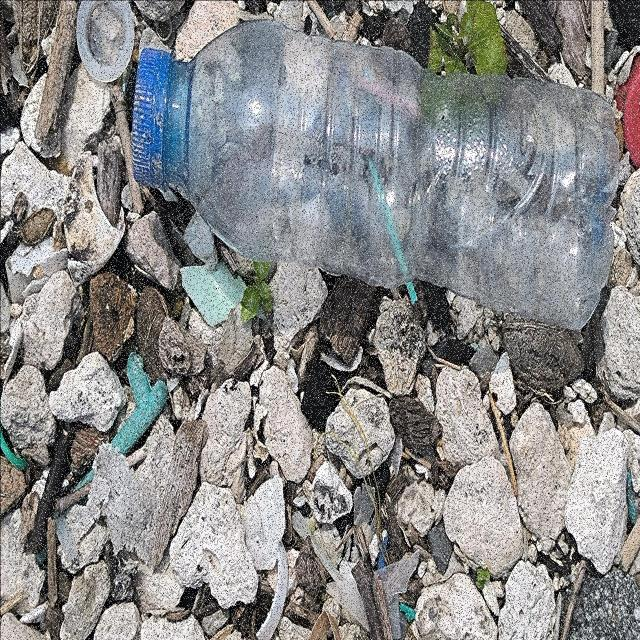plastic_waste: (132, 19, 617, 333)
